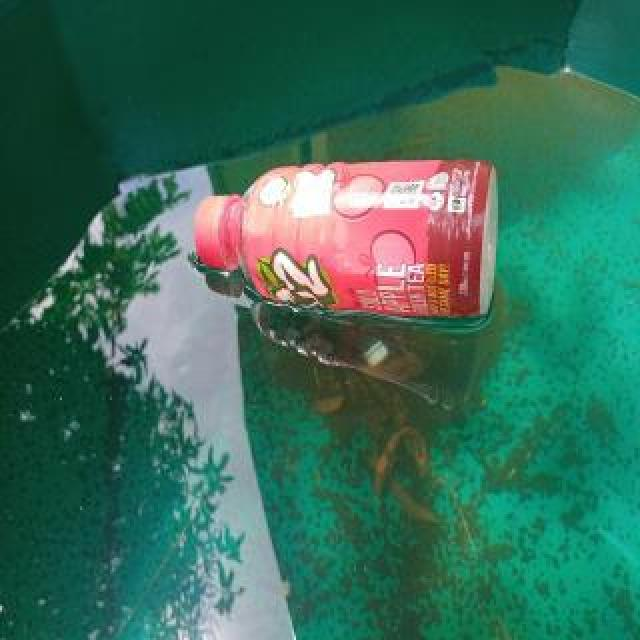bottle: (191, 154, 503, 326)
